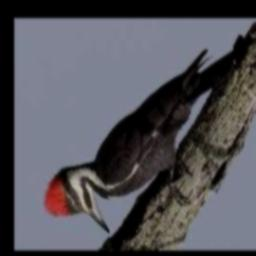Woodpecker: (44, 35, 255, 233)
